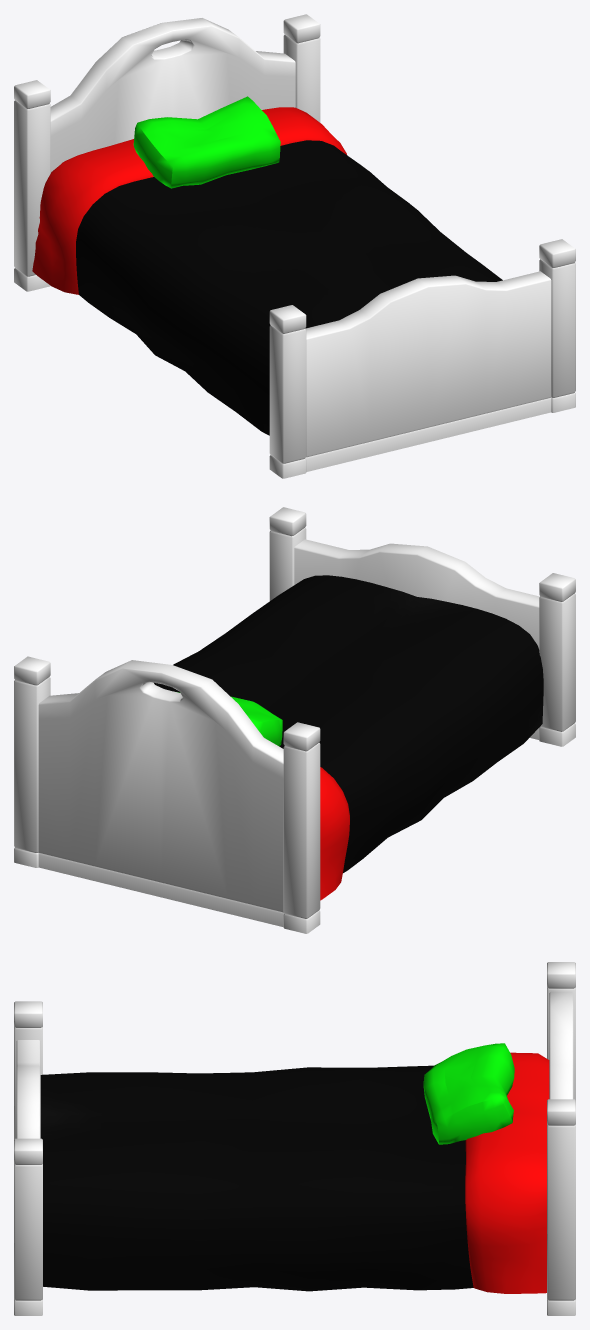
The model's file is GabiBed.fbx.
3 views of the same model, one above another, from view 1: azimuth 30°, elevation 25°; view 2: azimuth 150°, elevation 25°; view 3: azimuth 270°, elevation 25° (orthographic). The views are drawn at different scales.
Visible parts, largest first — view 1: Small Bed; view 2: Small Bed; view 3: Small Bed.
Boxes of the visible parts, <box> form: Small Bed: <box>14,14,575,478</box>; Small Bed: <box>14,507,575,933</box>; Small Bed: <box>14,962,575,1315</box>.
Bounding box in the file's own units: 4.03 × 1.85 × 2.54.
